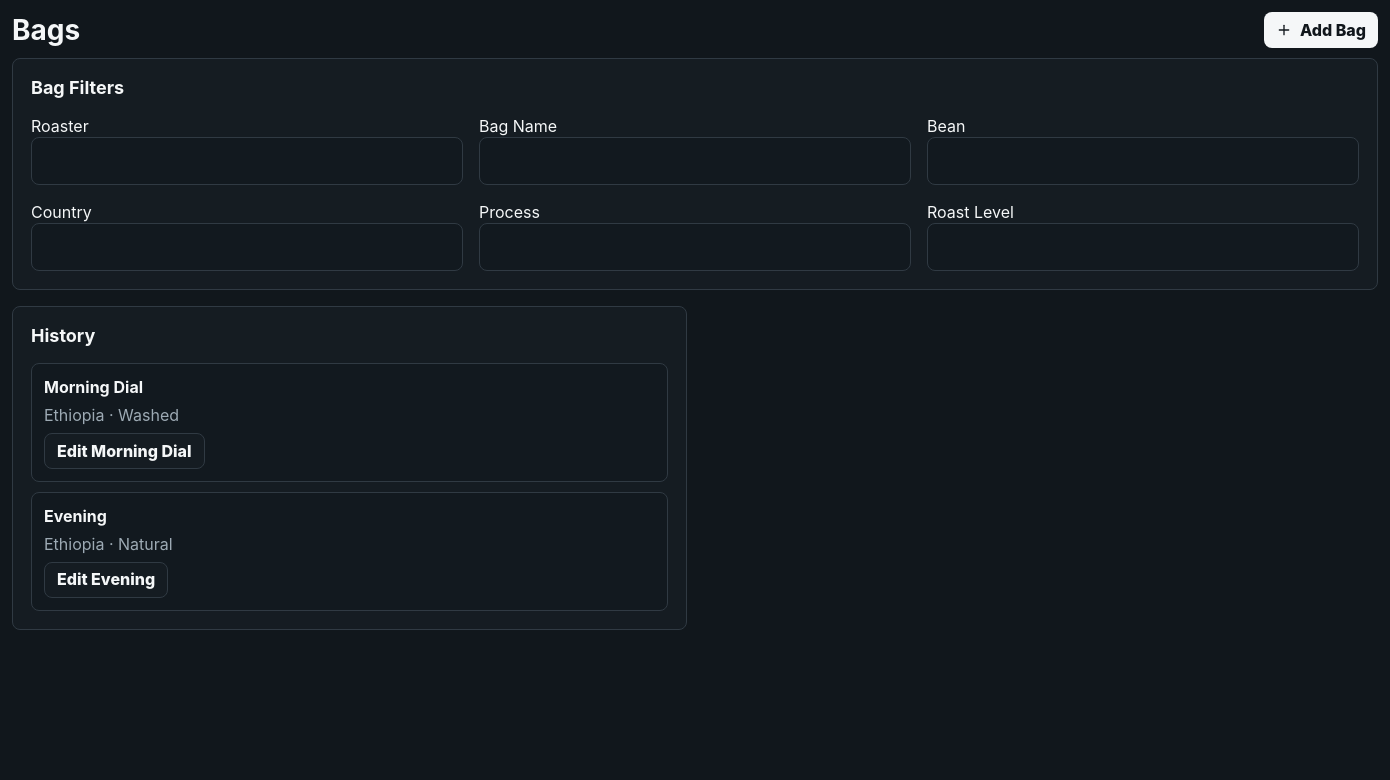
BagsPage › filters bags by optional bag name
Expected: the text "Morning Dial" is shown, [44, 377, 143, 397]
Expected: the text "Evening" is shown, [44, 506, 107, 526]
In the field labelled "Bag Name": {"x": 695, "y": 161} [479, 137, 911, 185], type "morning"
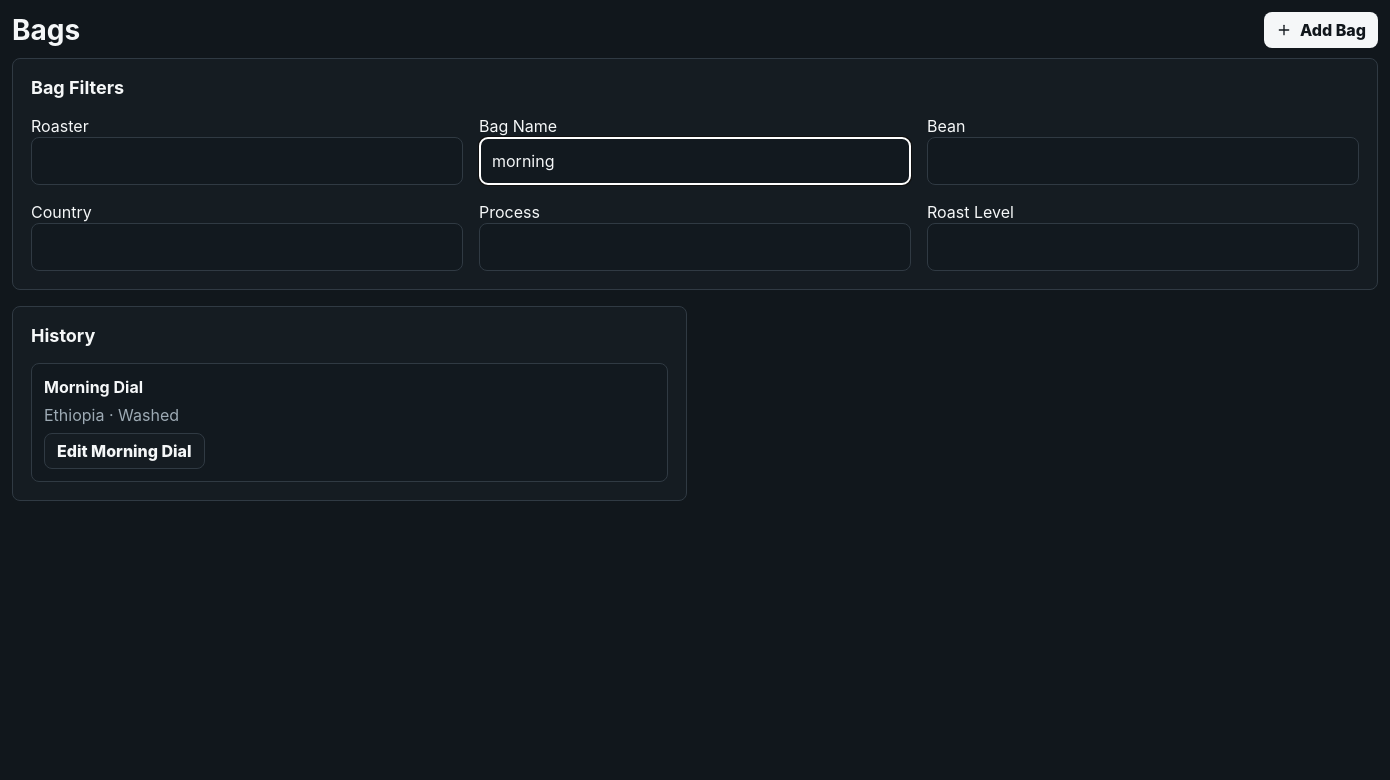
Expected: the text "Morning Dial" is shown, [44, 377, 143, 397]
Expected: the text "Evening" is gone
